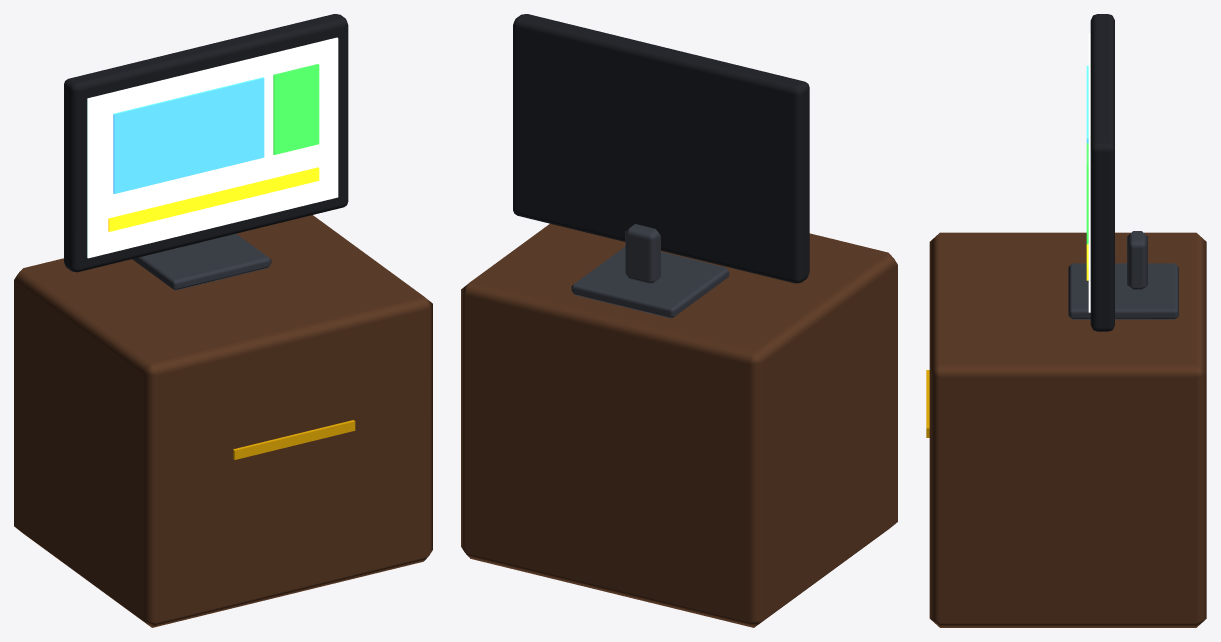
The model's file is station_intake_ausstattung_2_2.glb.
3 renders of one model, left to right at view 1: azimuth 30°, elevation 25°; view 2: azimuth 150°, elevation 25°; view 3: azimuth 270°, elevation 25°, orthographic. The views are drawn at different scales.
Parts seen in each view (by area): view 1: station_intake_ausstattung_2_2; view 2: station_intake_ausstattung_2_2; view 3: station_intake_ausstattung_2_2.
Part boxes in pixels (box(x1,y1,x2,y2)): station_intake_ausstattung_2_2: box(14, 14, 432, 627); station_intake_ausstattung_2_2: box(461, 14, 897, 627); station_intake_ausstattung_2_2: box(926, 14, 1206, 627).
Size of the model in its own units: 0.48 by 0.77 by 0.405.
